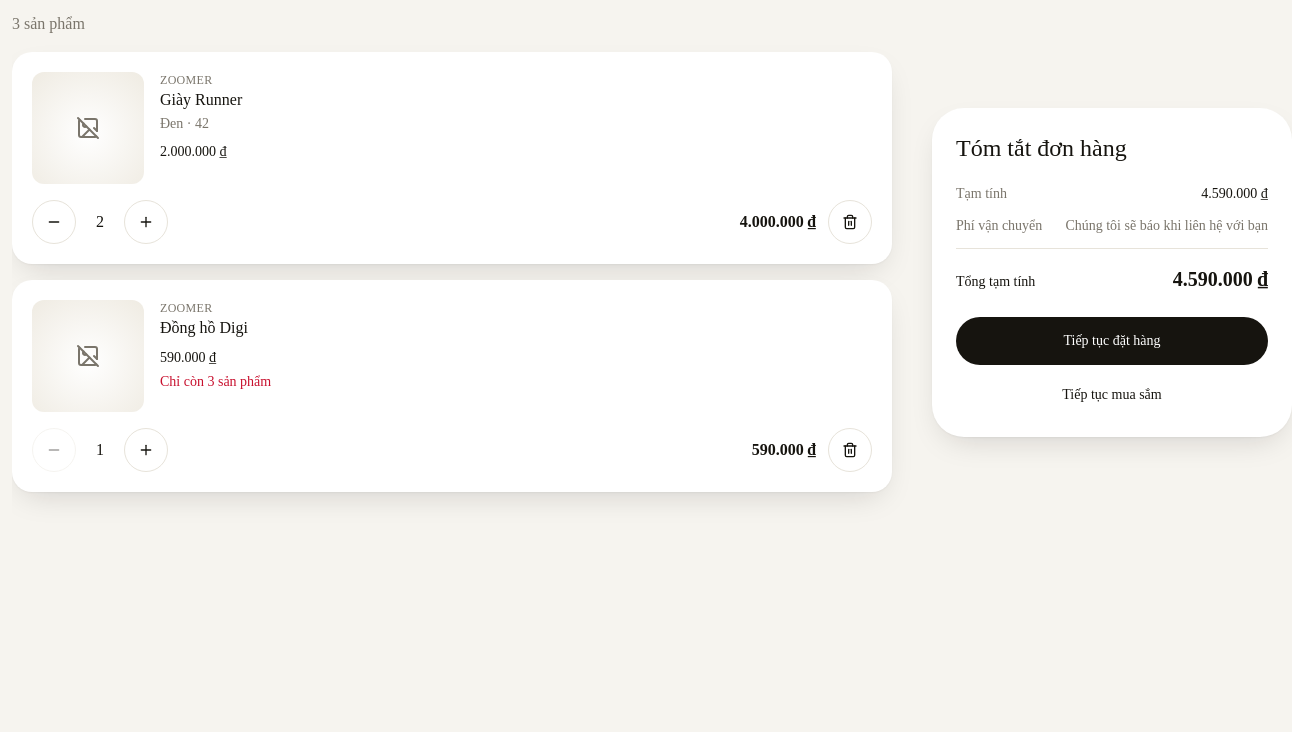
Test case: totals and quantities › changes quantity and totals when the buttons are used, without asking the server again
Expected: the link "Giày Runner" is shown, [160,91,242,108]
What coordinates should you click on to do the following:
click the button named "Tăng số lượng của Giày Runner"
I would click on:
 (146, 222)
Its box is [124,200,168,244].
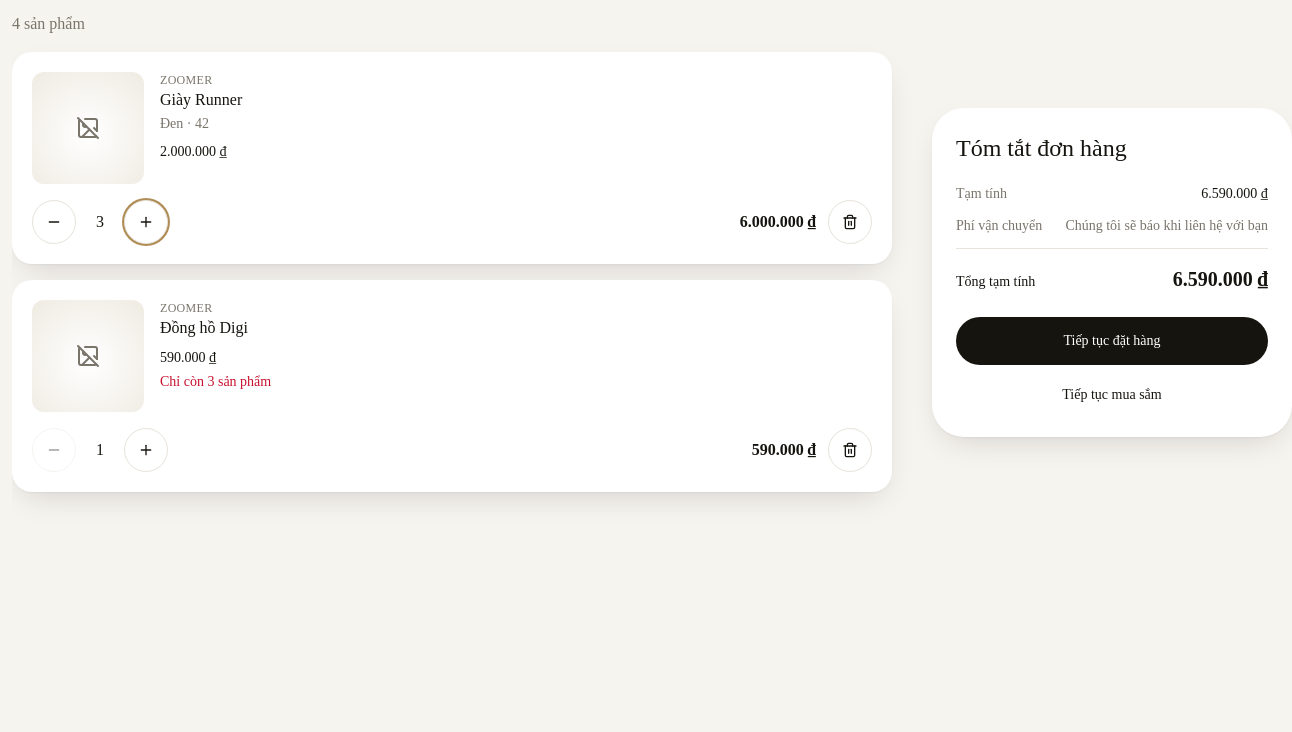
What coordinates should you click on to do the following:
click the button named "Giảm số lượng của Giày Runner"
I would click on:
 (54, 222)
Its box is [32,200,76,244].
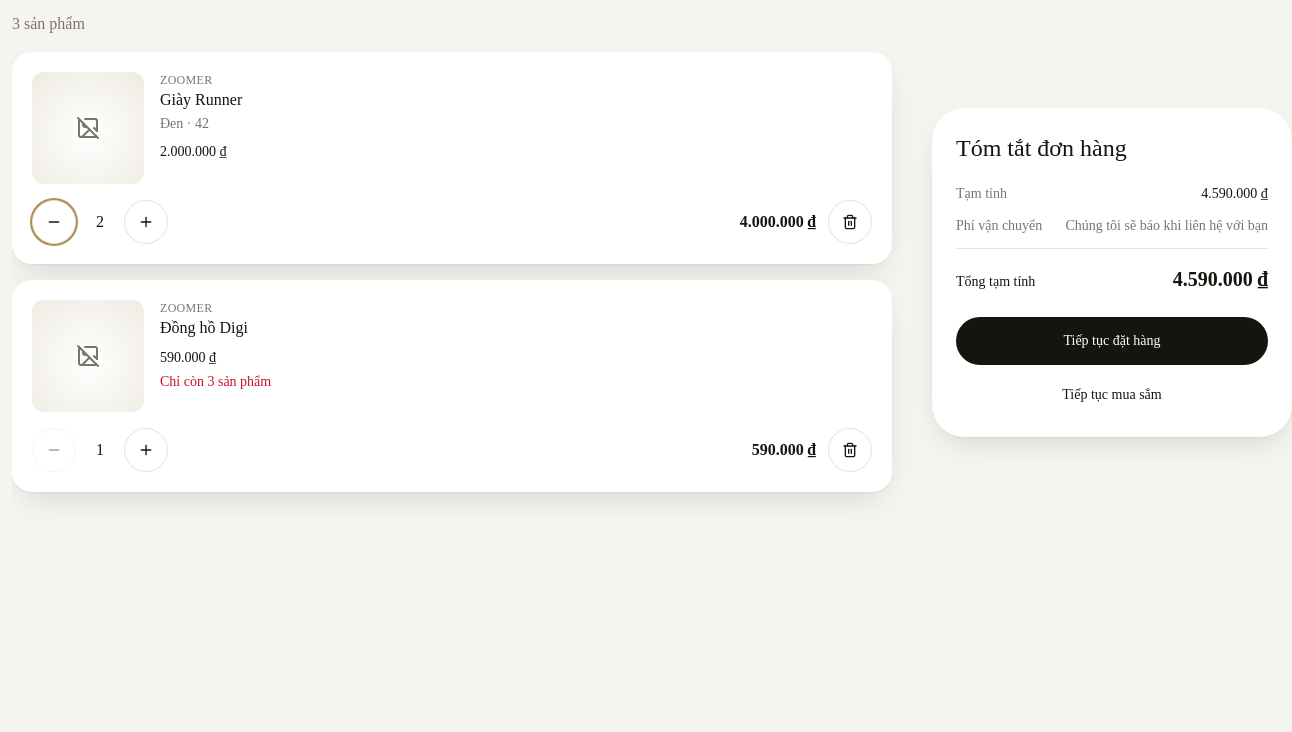
What coordinates should you click on to do the following:
click the button named "Giảm số lượng của Giày Runner"
I would click on:
 (54, 222)
Its box is [32,200,76,244].
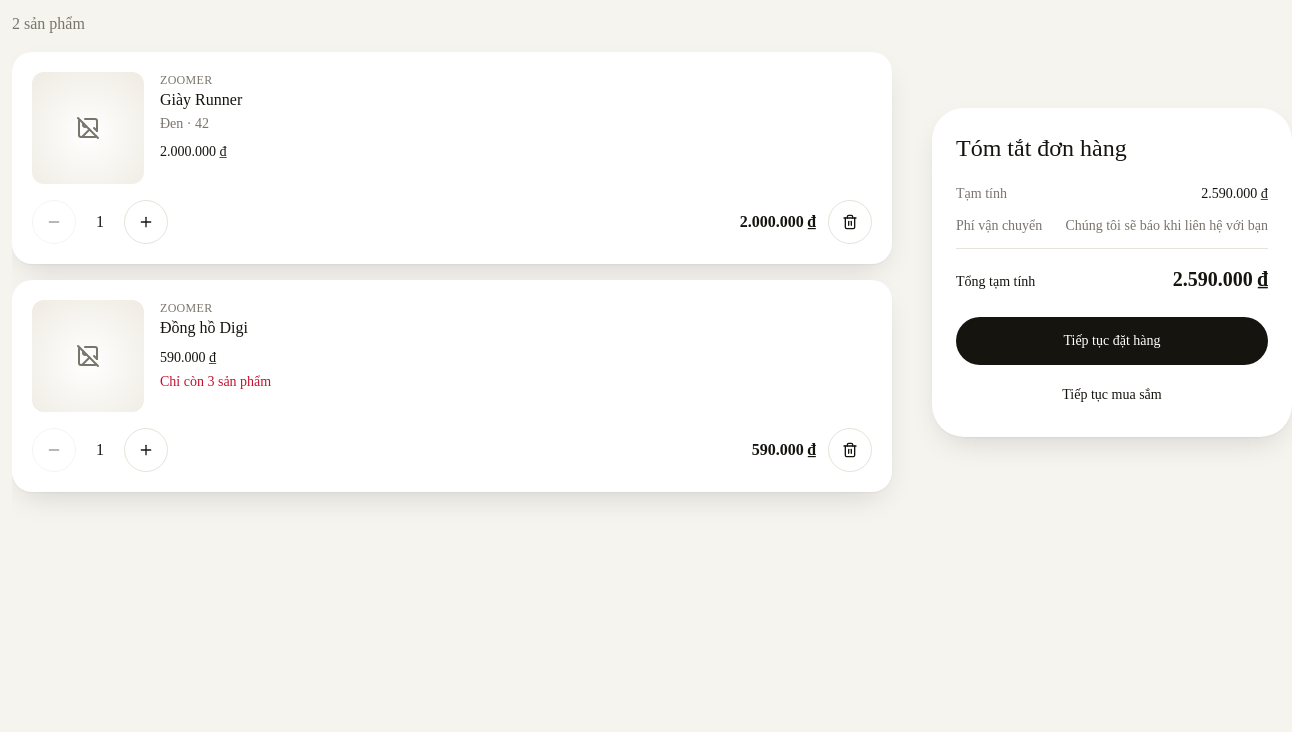
Expected: the button named "Giảm số lượng của Giày Runner" is disabled, [32,200,76,244]
